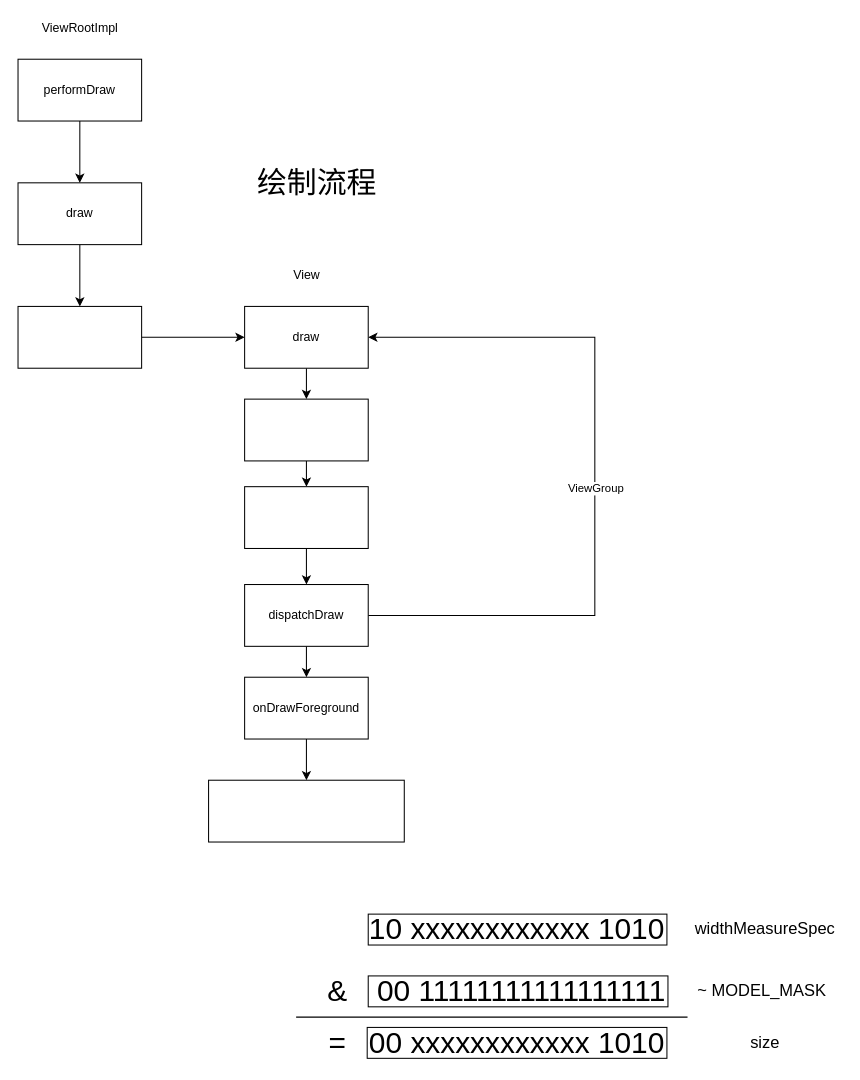
Some shapes in this 860 by 1080 pixel diagram are drawn without their labels. Here are the shapes that lost their labels. From the top down, the centre of each, then its label:
point 79,336: drawSoftware
point 306,429: drawBackground
point 306,517: onDraw
point 306,810: drawDefaultFocusHighlight
